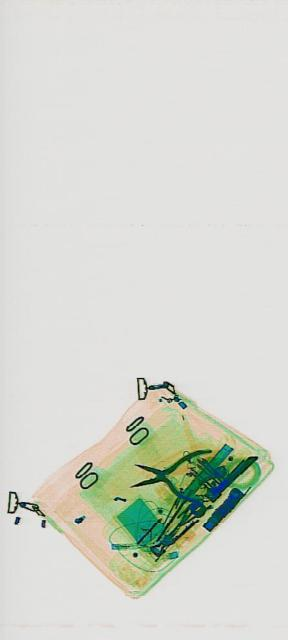Pliers: (128, 440, 210, 504)
